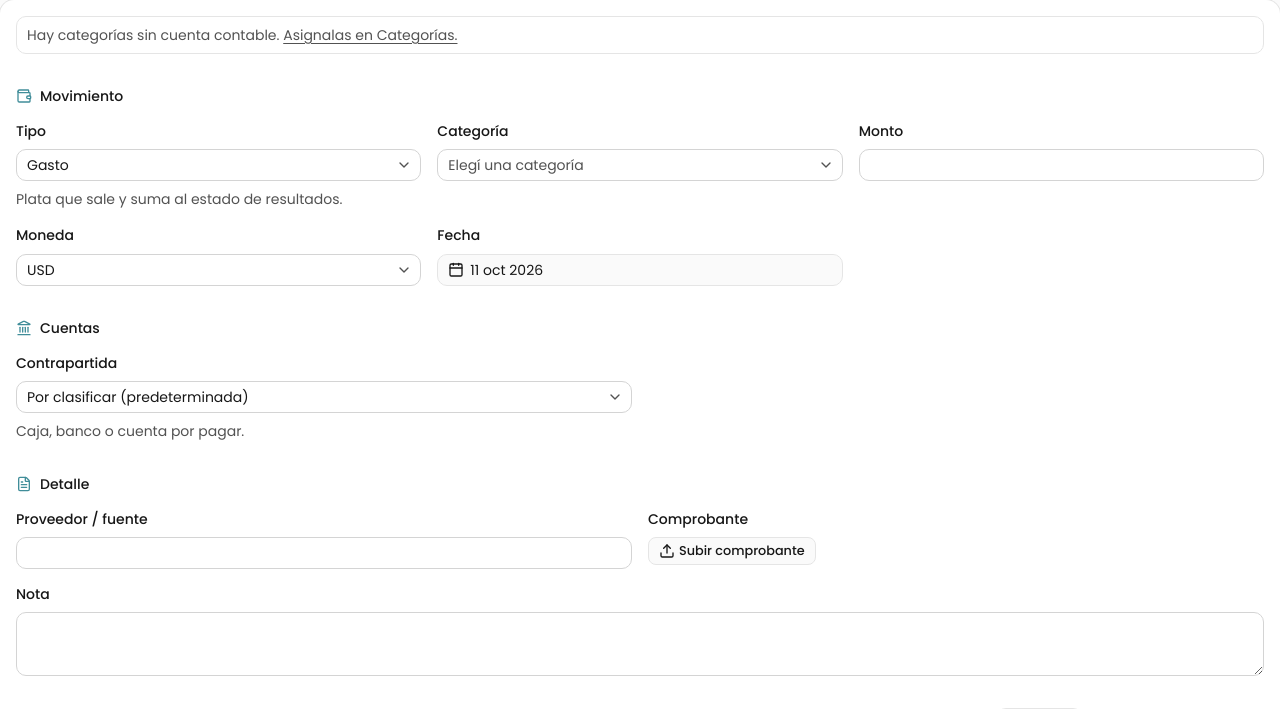
Test case: FinanceEntryForm — la categoría vive donde hay resultado › en "Aporte de socio" no hay selector de categoría
The width and height of the screenshot is (1280, 709).
Click the dropdown named "Tipo".
click(48, 165)  # box [16, 149, 421, 181]
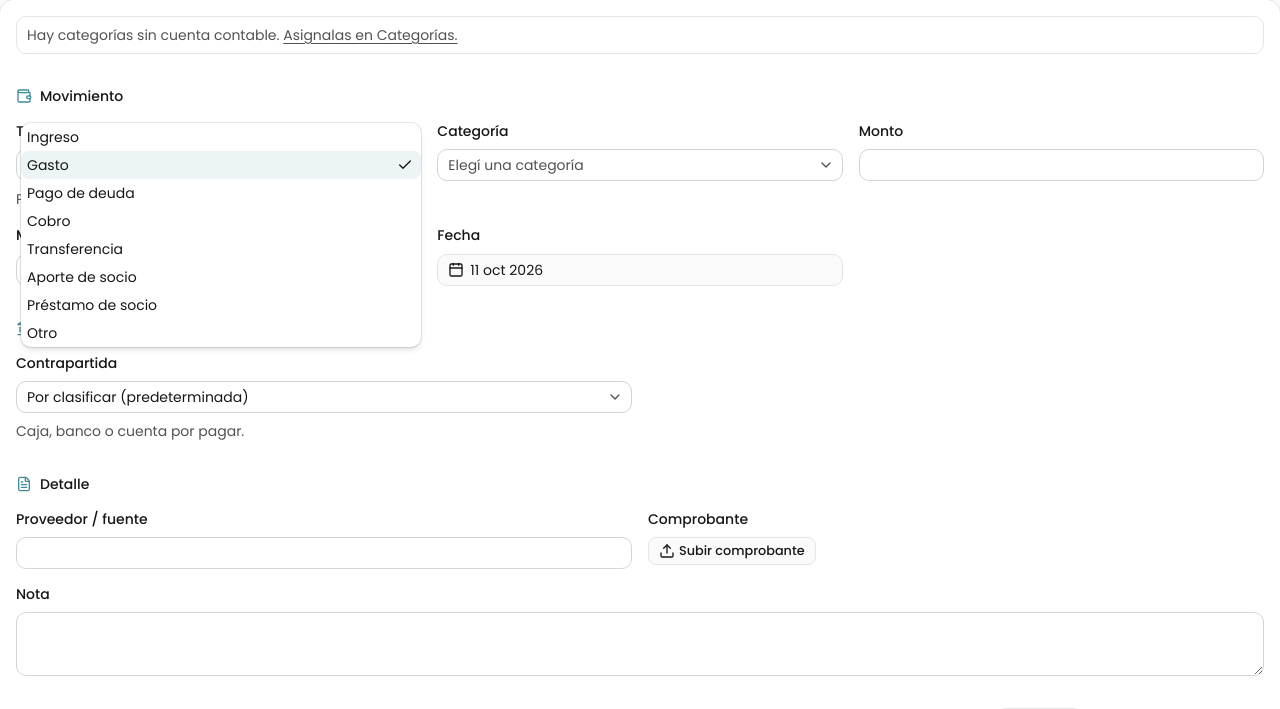
Click the option "Aporte de socio".
click(82, 277)  # box [27, 267, 137, 287]
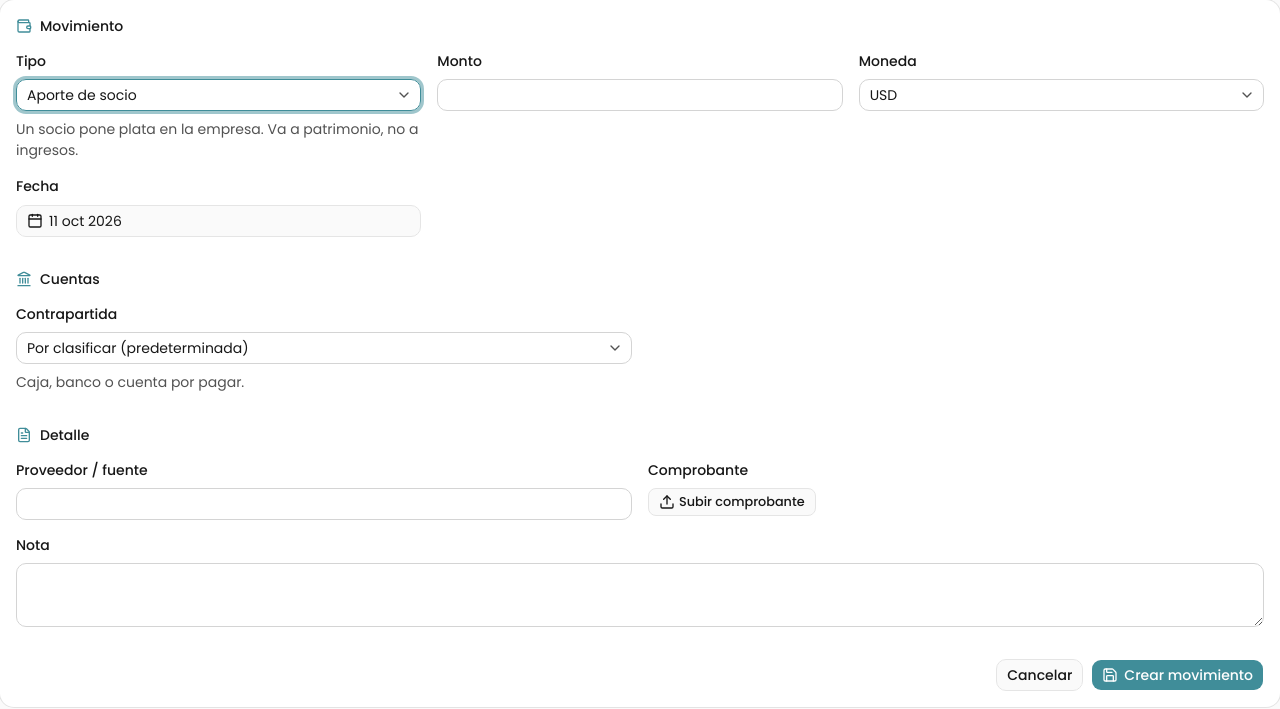
Expected: the link "Categoría" is gone
Expected: the text "Hay categorías sin cuenta contable." is gone
